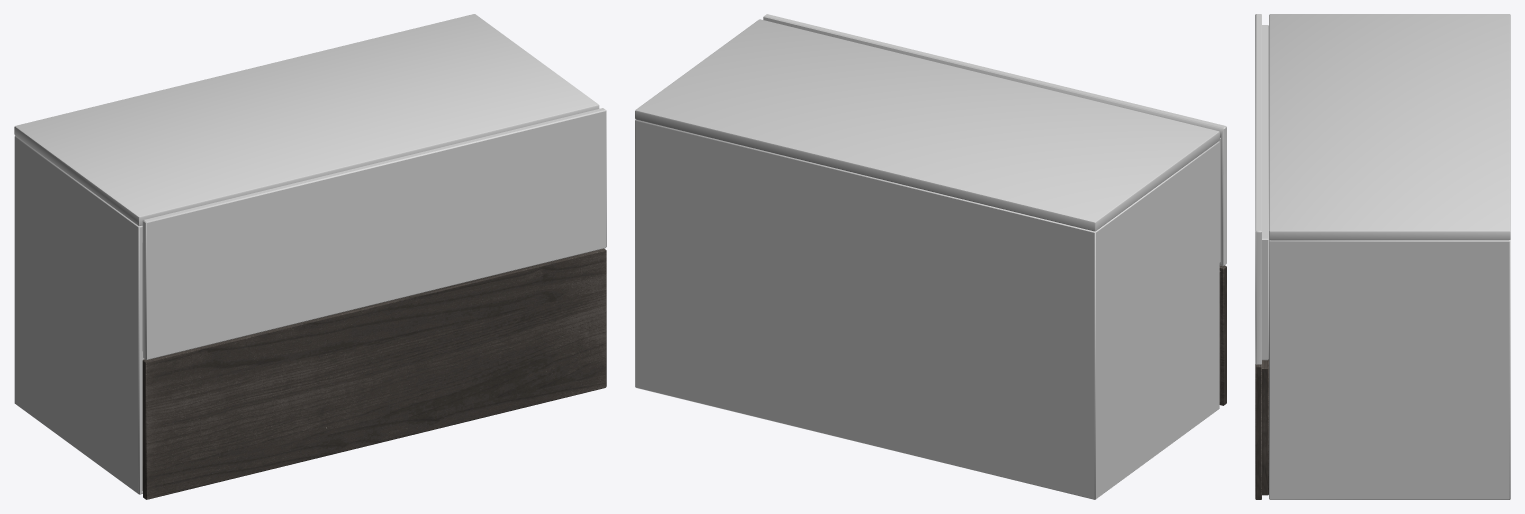
The model's file is bedside.FBX.
3 views of the same model, side by side, from view 1: azimuth 30°, elevation 25°; view 2: azimuth 150°, elevation 25°; view 3: azimuth 270°, elevation 25° (orthographic). The views are drawn at different scales.
Visible parts, largest first — view 1: bedside; view 2: bedside; view 3: bedside.
Part boxes in pixels (left/top/right/bottom): bedside: left=14, top=14, right=606, bottom=499; bedside: left=635, top=14, right=1226, bottom=499; bedside: left=1255, top=14, right=1510, bottom=499.
Size of the model in its own units: 64.79 by 37.36 by 32.15.
2 materials, 1 textured.
